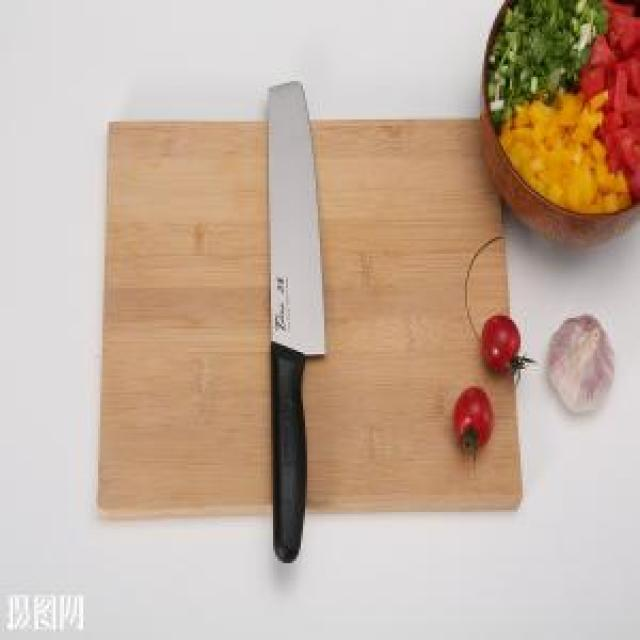knife: (262, 73, 330, 562)
